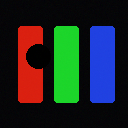2 circle: (26, 44, 50, 68)
